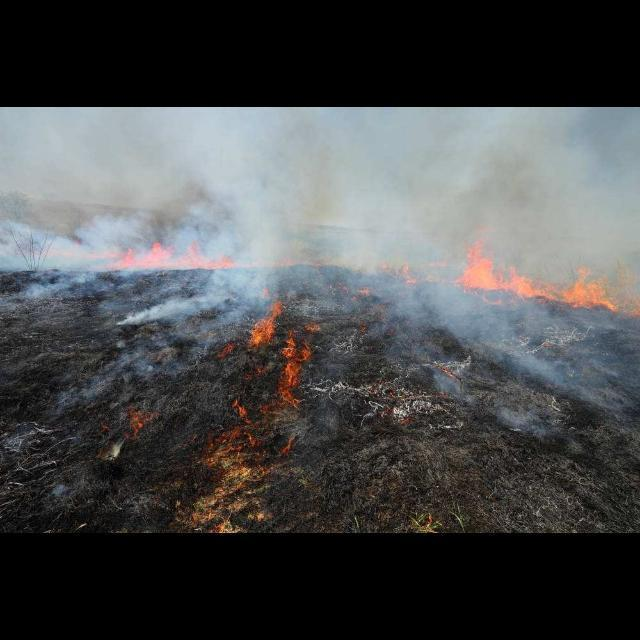Fire: (188, 299, 322, 489), (399, 224, 619, 314), (91, 240, 242, 270), (122, 404, 158, 440)
Smoke: (1, 108, 639, 245), (401, 315, 640, 437), (243, 249, 417, 310), (90, 273, 240, 333), (2, 252, 88, 302)
